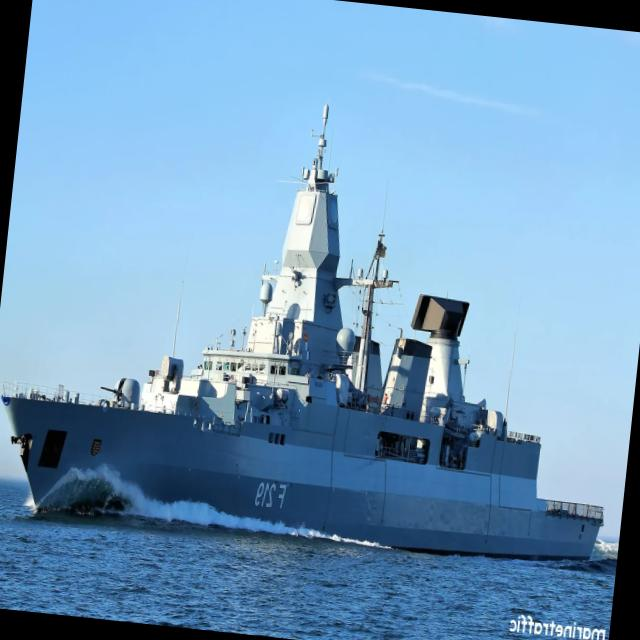Military: (2, 131, 603, 559)
